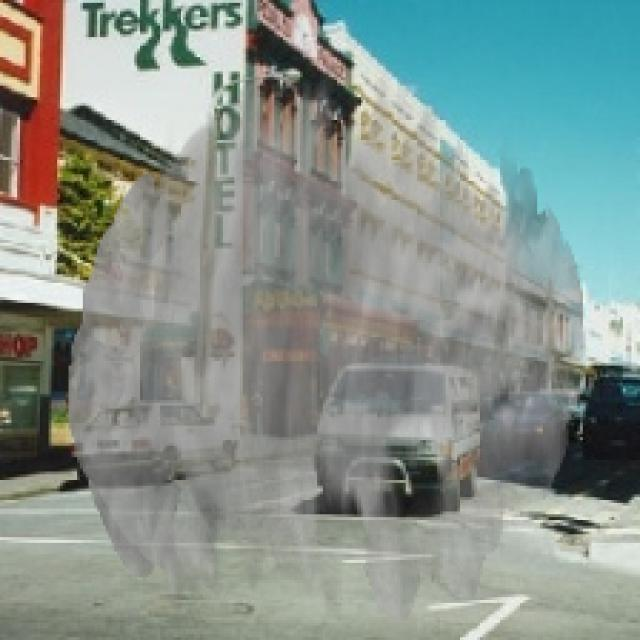smoke: (69, 71, 586, 623)
